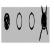correct: (4, 12, 10, 30)
not correct: (39, 3, 48, 42)
